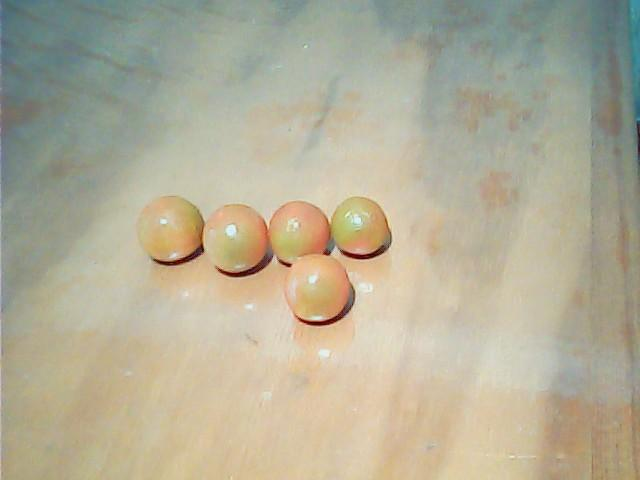verde: (203, 203, 268, 275), (137, 194, 203, 262), (283, 256, 349, 323), (269, 201, 331, 266), (330, 197, 390, 254)
